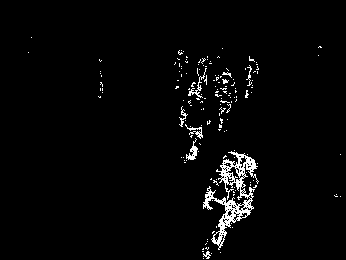person: (180, 81, 211, 162), (214, 67, 237, 130), (244, 53, 261, 100)
